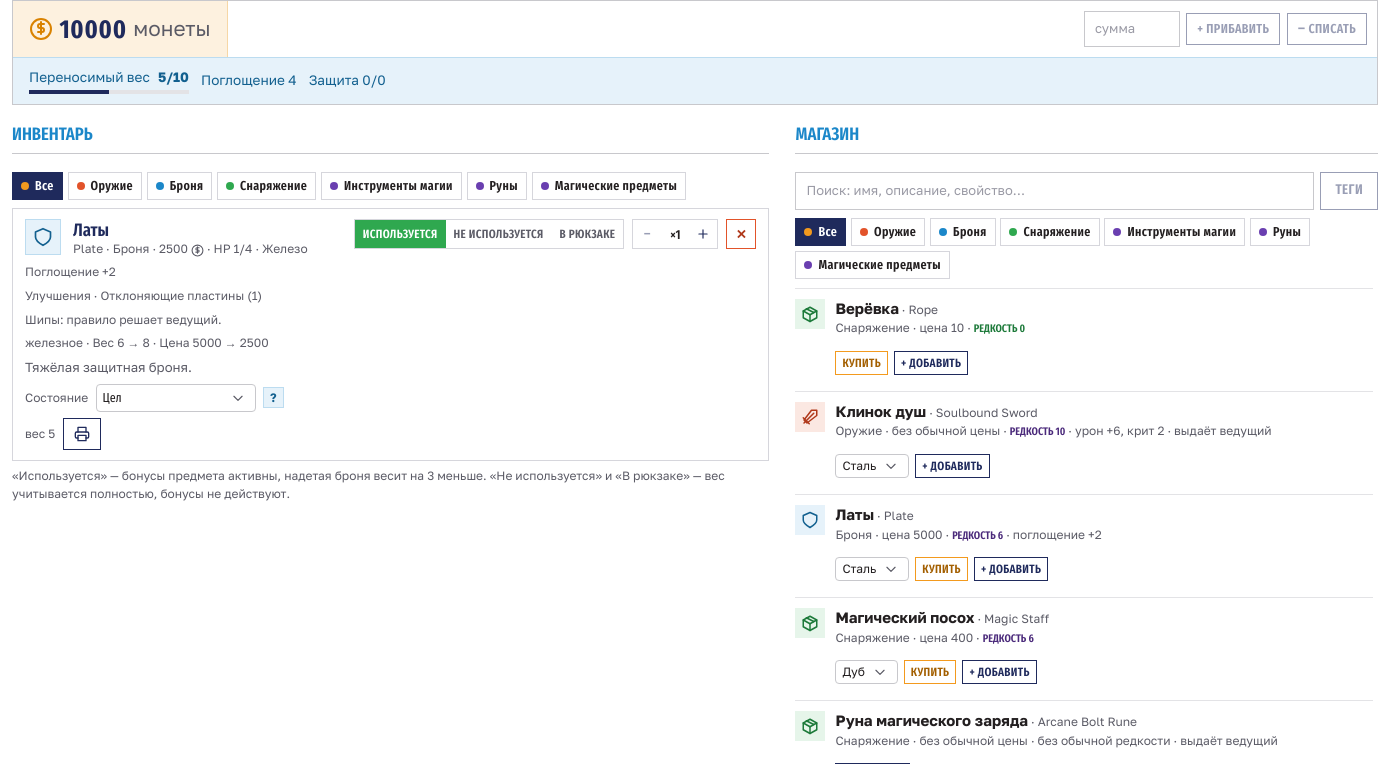
Инвентарь: качество изготовления (ROT-WPN-02) › держит реликвии в своей корзине витрины и не показывает их среди оружия
The image size is (1390, 764).
Click the button "Магические предметы" below "Магазин" at (873, 264), box [795,250,950,278]
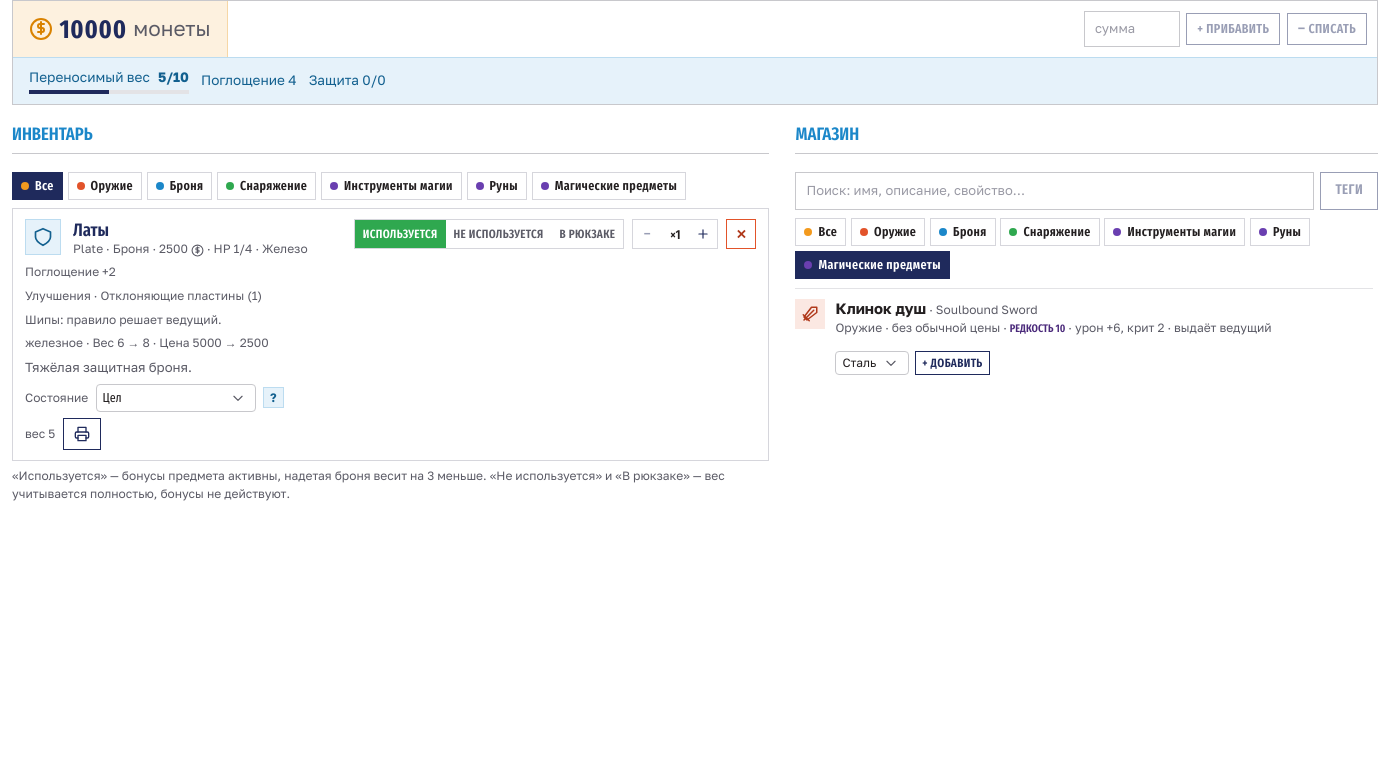
Expected: the text "Клинок душ" is shown, [835,299,926,317]
Note: В общей корзине оружия реликвии нет: её не покупают, и она там только мешает.
Click the button "Оружие" below "Магазин" at (888, 232), box [851,218,925,246]
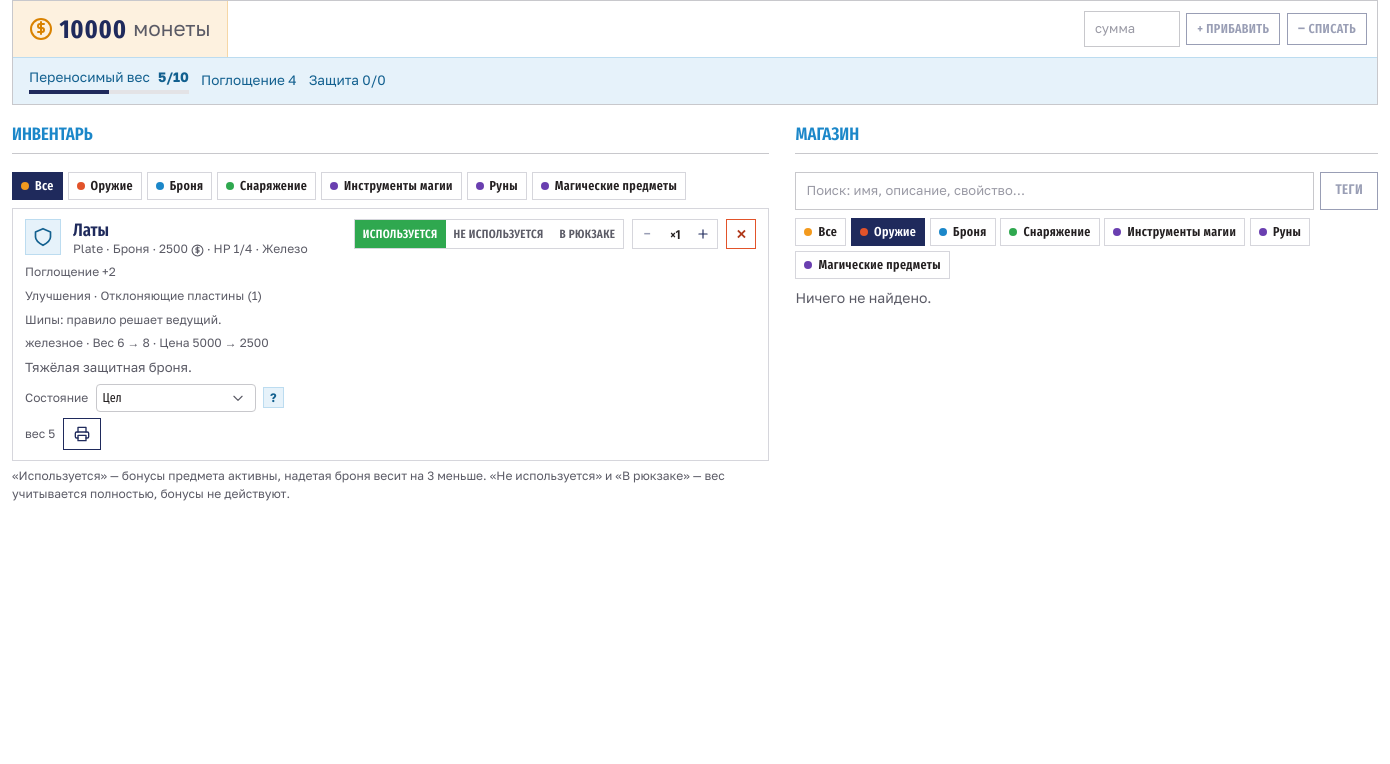
Expected: the text "Клинок душ" is gone
